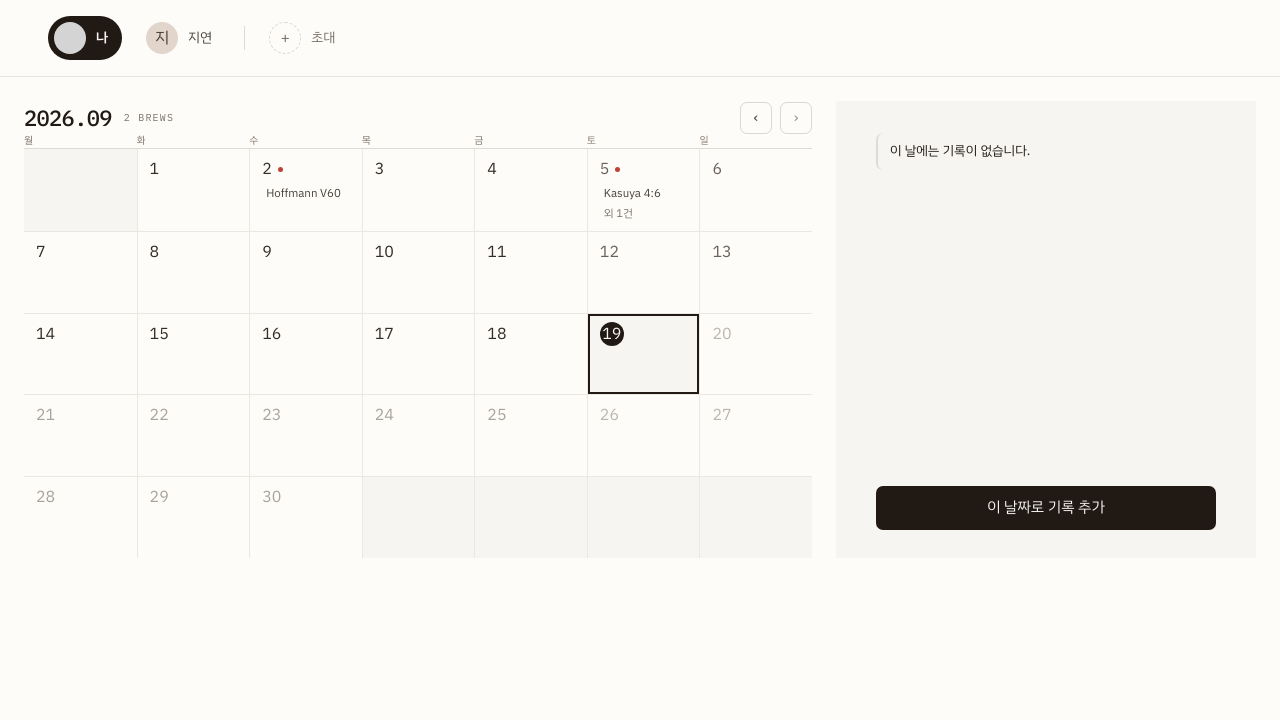
Test: HomePage › AC-HOMECAL-33 · 이전 달로 넘기면 선택 없음 상태가 된다
Expected: the text "2026.09" is shown, left=24, top=101, right=112, bottom=134
Click the button named "이전 달".
click(756, 118)  # box left=740, top=102, right=772, bottom=134
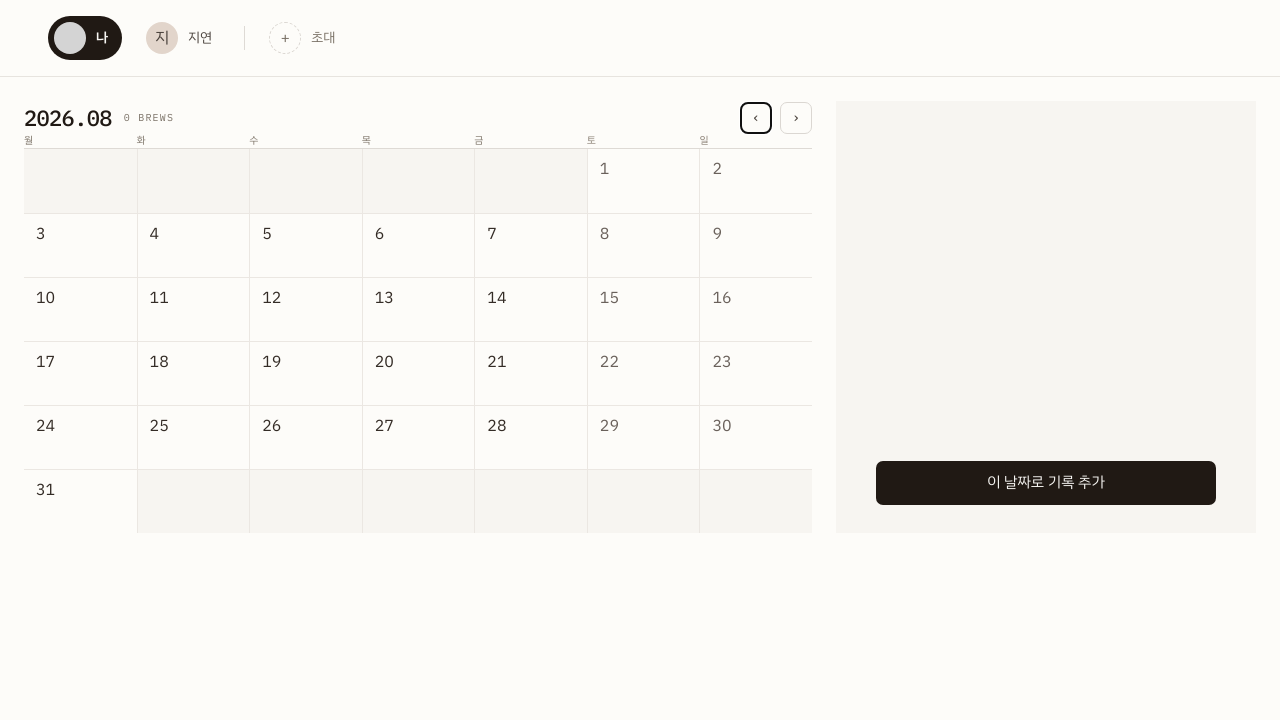
Expected: the text "2026.08" is shown, left=24, top=101, right=112, bottom=134
